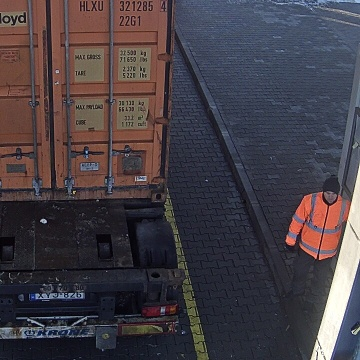serial_id: (80, 1, 166, 11)
